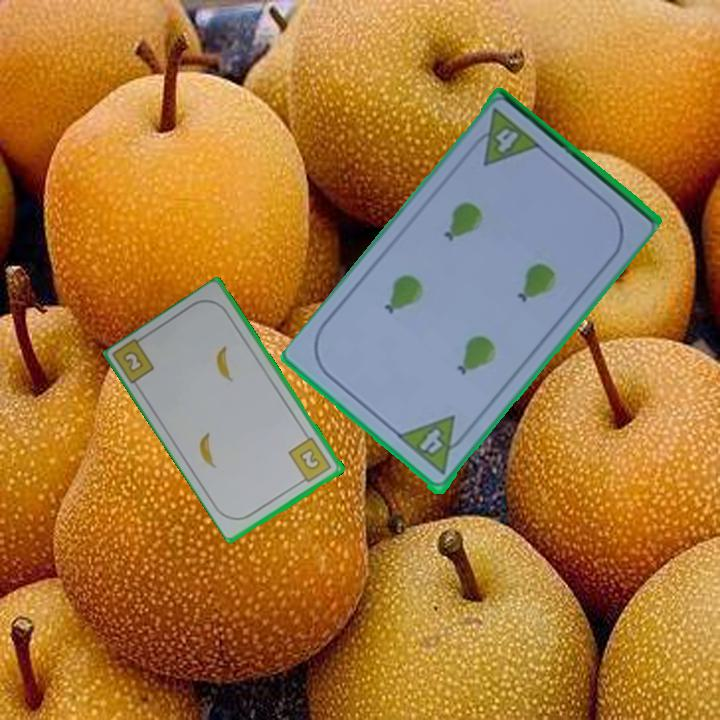2b: (285, 434, 335, 487), (121, 349, 144, 373)
4p: (395, 412, 473, 479), (464, 105, 543, 170)
